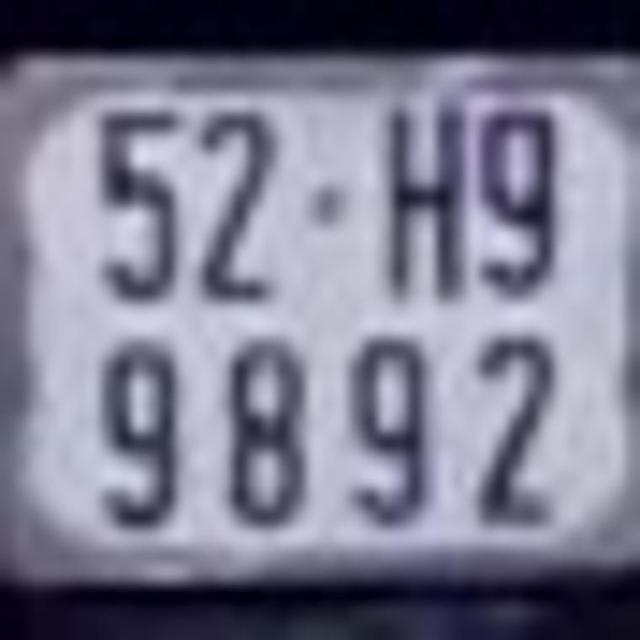2: (476, 332, 559, 532), (198, 106, 278, 303)
5: (96, 104, 182, 303)
8: (229, 335, 304, 529)
9: (476, 102, 559, 301), (98, 336, 178, 531), (351, 332, 426, 529)
H: (384, 97, 466, 306)
